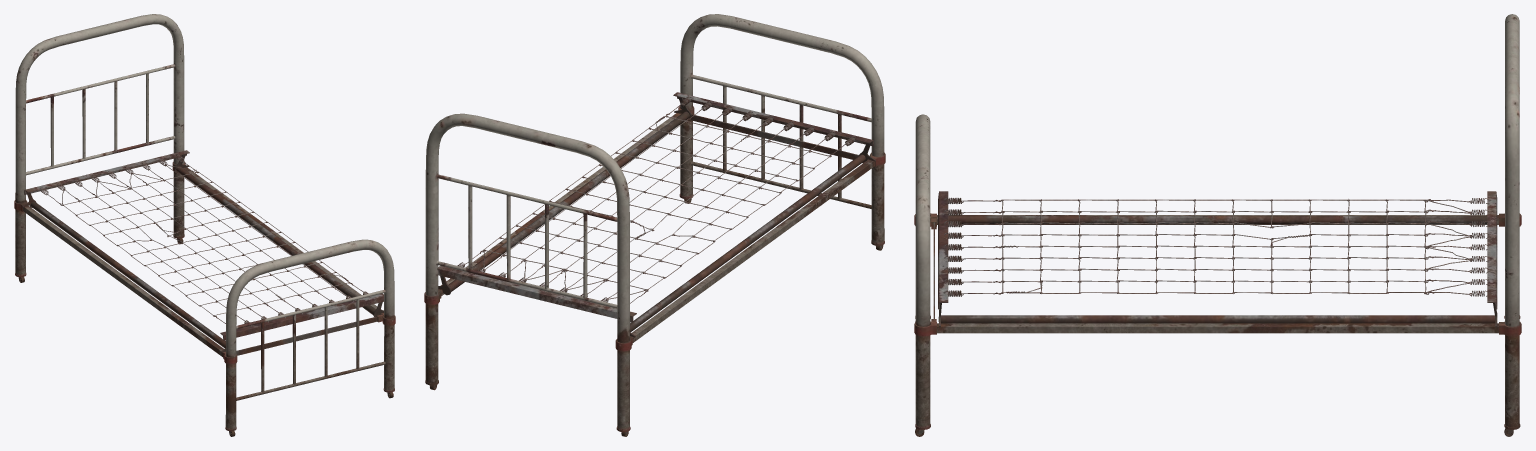
Rendered from old_bed_frame.glb.
The picture shows the model from 3 angles, left to right: view 1: azimuth 30°, elevation 25°; view 2: azimuth 150°, elevation 25°; view 3: azimuth 270°, elevation 25°; orthographic projection. The views are drawn at different scales.
Parts seen in each view (by area): view 1: old_bed_frame; view 2: old_bed_frame; view 3: old_bed_frame.
Boxes of the visible parts, x1,y1,x2,y2 form: old_bed_frame: (14,14,395,436); old_bed_frame: (424,14,885,436); old_bed_frame: (914,14,1521,436).
Bounding box in the file's own units: 0.9047 × 1.2 × 2.
Materials: 1 (1 with a texture image).
